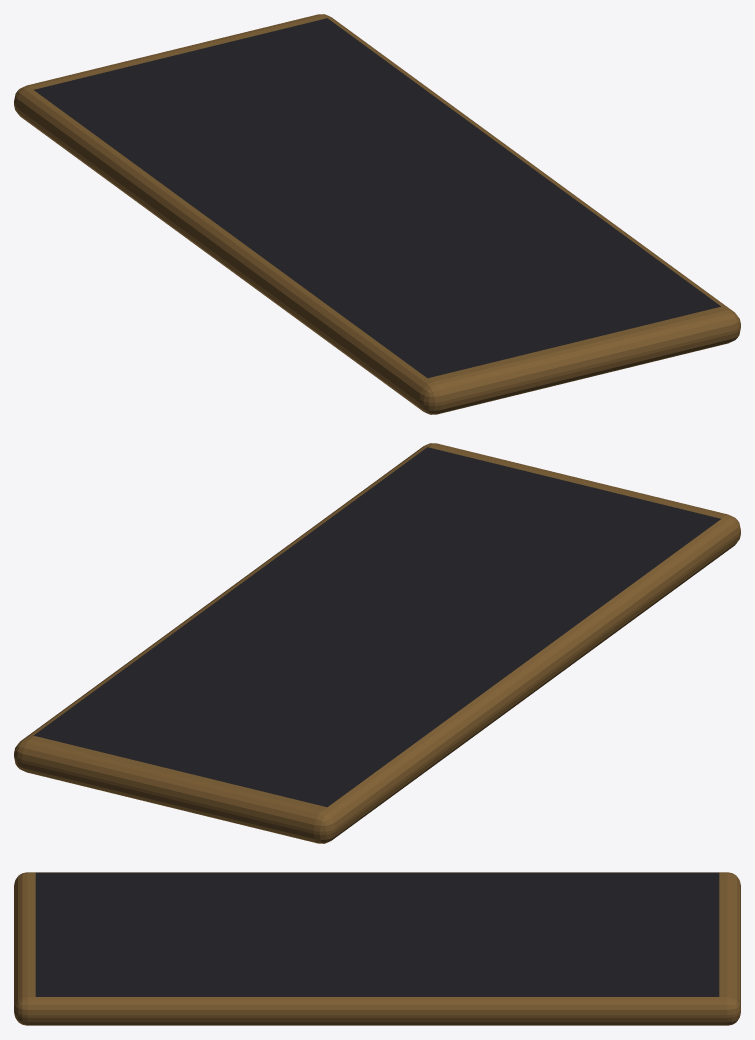
Rendered from Phone_961.glb.
3 renders of one model, top to bottom at view 1: azimuth 30°, elevation 25°; view 2: azimuth 150°, elevation 25°; view 3: azimuth 270°, elevation 25°, orthographic. The views are drawn at different scales.
Parts seen in each view (by area): view 1: Phone_Screen, Phone_Body; view 2: Phone_Screen, Phone_Body; view 3: Phone_Screen, Phone_Body.
Boxes of the visible parts, x1,y1,x2,y2 form: Phone_Screen: (34, 18, 720, 378); Phone_Body: (14, 14, 740, 414); Phone_Screen: (34, 447, 720, 807); Phone_Body: (14, 443, 740, 843); Phone_Screen: (35, 872, 719, 996); Phone_Body: (14, 872, 740, 1025).
Size of the model in its own units: 0.0741 by 0.0071 by 0.1684.
